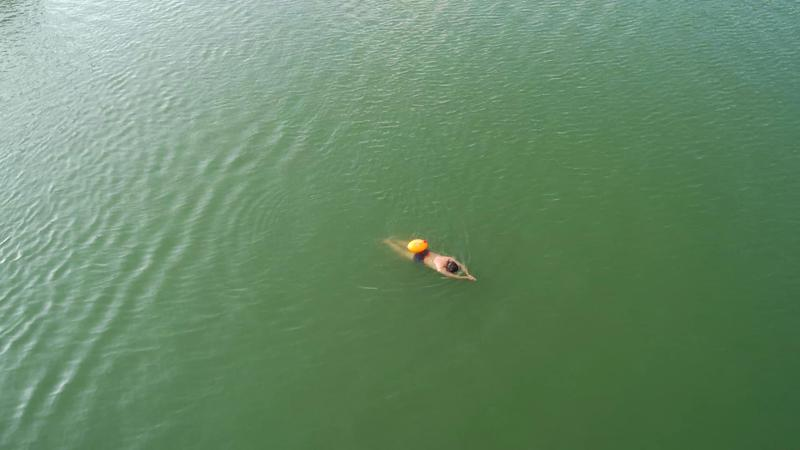swimmers: (385, 236, 477, 282)
